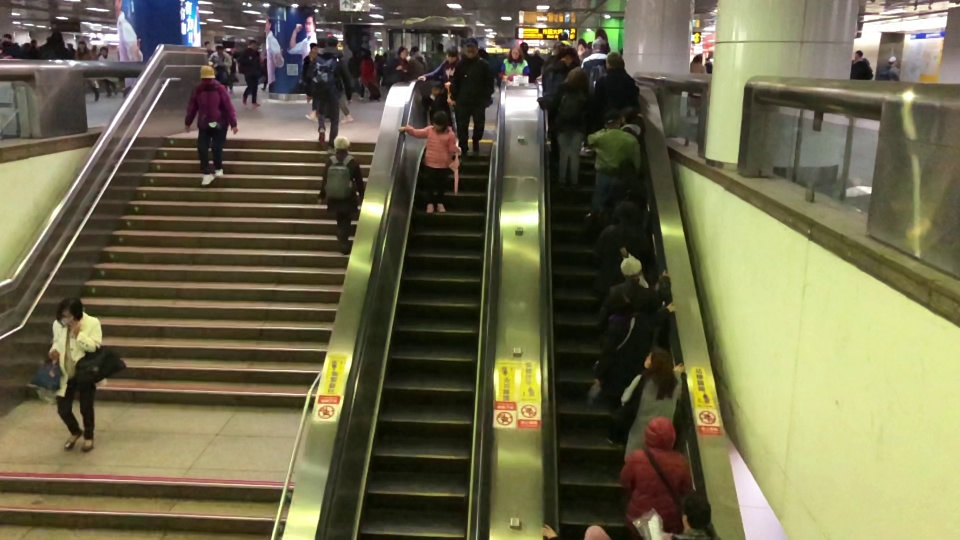person_head: (679, 492, 712, 535), (642, 414, 678, 452), (55, 296, 83, 331), (610, 198, 643, 225), (641, 346, 673, 373), (607, 289, 636, 314), (564, 65, 589, 90), (619, 255, 643, 281), (616, 157, 637, 183), (603, 50, 627, 71), (430, 108, 450, 133), (332, 133, 351, 154), (462, 35, 479, 58), (198, 64, 217, 84), (46, 28, 65, 47), (603, 110, 621, 129), (620, 104, 637, 124), (559, 45, 576, 64), (591, 37, 606, 53), (325, 34, 339, 51), (429, 79, 443, 96), (509, 44, 522, 62), (551, 41, 568, 54), (446, 44, 458, 61), (397, 44, 408, 60), (316, 39, 327, 54), (556, 30, 568, 43), (308, 39, 318, 54), (246, 38, 258, 50), (408, 44, 420, 56), (518, 41, 529, 54), (76, 40, 88, 51), (99, 46, 110, 58), (692, 52, 703, 64), (215, 42, 225, 55), (854, 48, 864, 60), (887, 55, 897, 66), (362, 48, 372, 58), (435, 41, 443, 51)
person_vbox: (596, 289, 679, 446), (616, 412, 694, 540), (47, 293, 105, 453), (621, 346, 687, 465), (535, 66, 592, 187), (395, 110, 460, 214), (185, 64, 239, 186), (591, 199, 656, 298), (595, 254, 671, 335), (313, 133, 363, 255), (586, 110, 641, 217), (307, 36, 353, 154), (448, 35, 493, 154), (304, 39, 353, 123), (419, 44, 462, 137), (594, 49, 640, 131), (601, 158, 649, 210), (579, 37, 614, 94), (71, 38, 101, 103), (237, 35, 261, 109), (543, 47, 578, 95), (419, 78, 453, 127), (382, 45, 412, 89), (497, 44, 529, 85), (356, 47, 379, 103), (96, 44, 120, 97), (207, 42, 233, 89), (36, 29, 72, 59), (542, 41, 572, 76), (618, 105, 647, 141), (301, 40, 320, 92), (875, 54, 901, 82), (408, 42, 430, 75), (850, 49, 872, 79), (429, 40, 448, 70), (689, 51, 708, 79)
